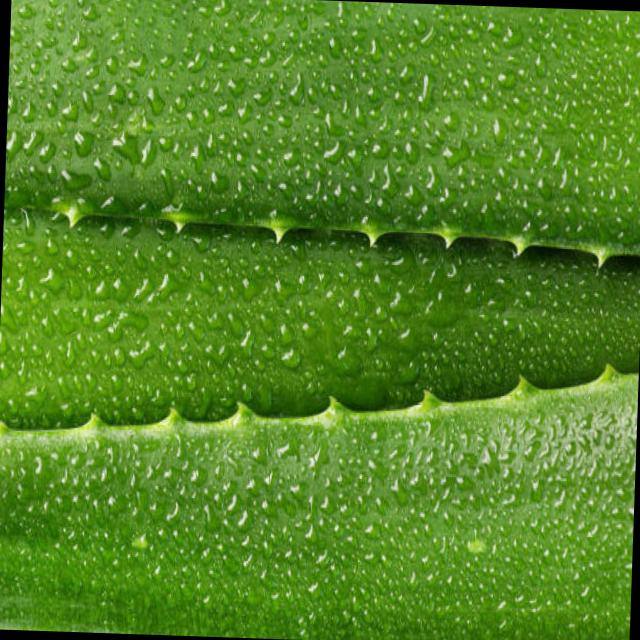AloeVera: (0, 25, 612, 640)
